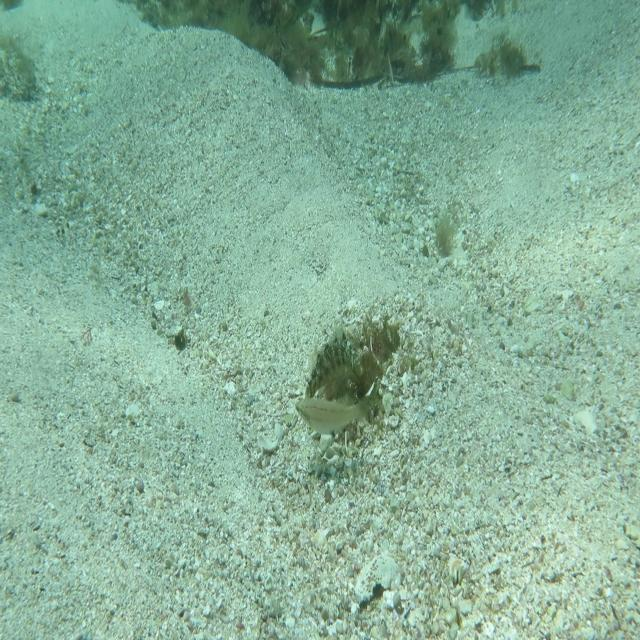BEND: (302, 319, 368, 437)
female: (292, 389, 374, 438)
nest: (306, 311, 404, 449)
vegetation: (133, 0, 490, 33), (235, 34, 440, 86), (430, 211, 456, 266)
